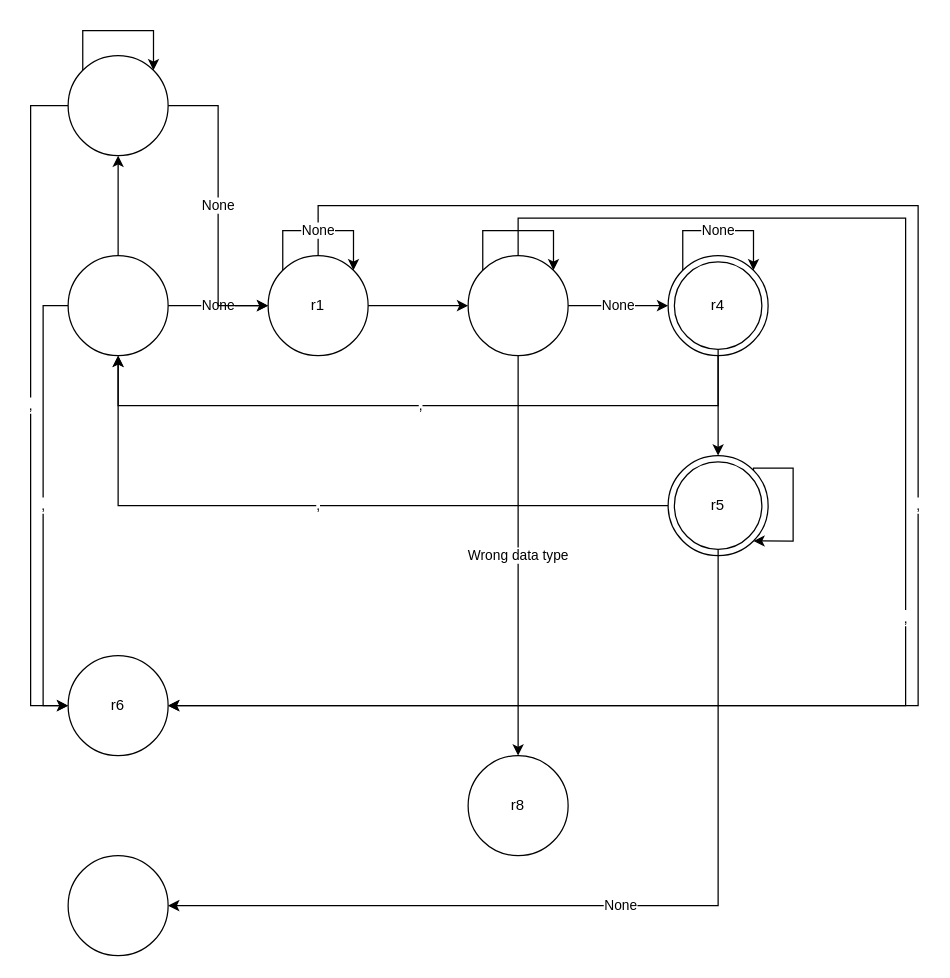
Image size: 950x978. Some labels were removed from this diagram. The centre of each missing label's shape, as x and y in pixels:
r0: the point at 117,305
r2: the point at 117,105
r3: the point at 517,305
r7: the point at 117,905
